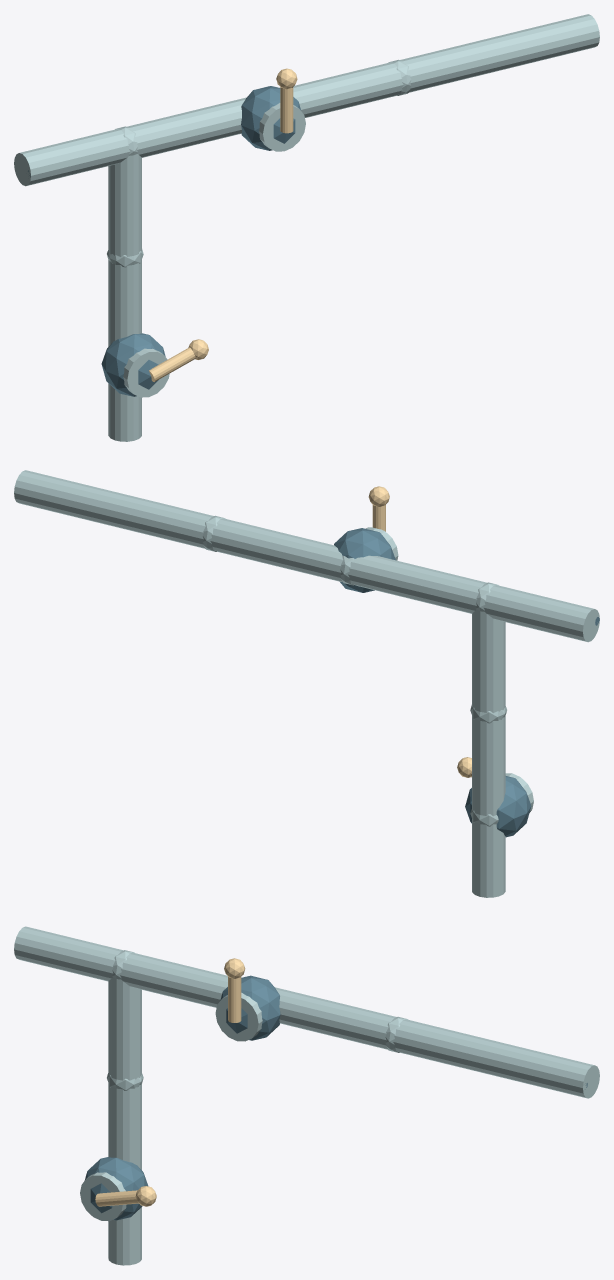
The model's file is air-01-0.glb.
The picture shows the model from 3 angles, top to bottom: view 1: azimuth 30°, elevation 25°; view 2: azimuth 150°, elevation 25°; view 3: azimuth 330°, elevation 25°; orthographic projection.
Parts seen in each view (by area): view 1: pipe, dark, handle; view 2: pipe, dark, handle; view 3: pipe, dark, handle.
Boxes of the visible parts, x1,y1,x2,y2 form: pipe: (14,14,599,441); dark: (28,86,300,396); handle: (149,68,297,381); pipe: (14,470,599,897); dark: (334,528,599,837); handle: (368,486,471,777); pipe: (14,926,599,1265); dark: (84,975,587,1220); handle: (95,958,245,1206).
Size of the model in its own units: 2.77 by 1.64 by 0.343.
